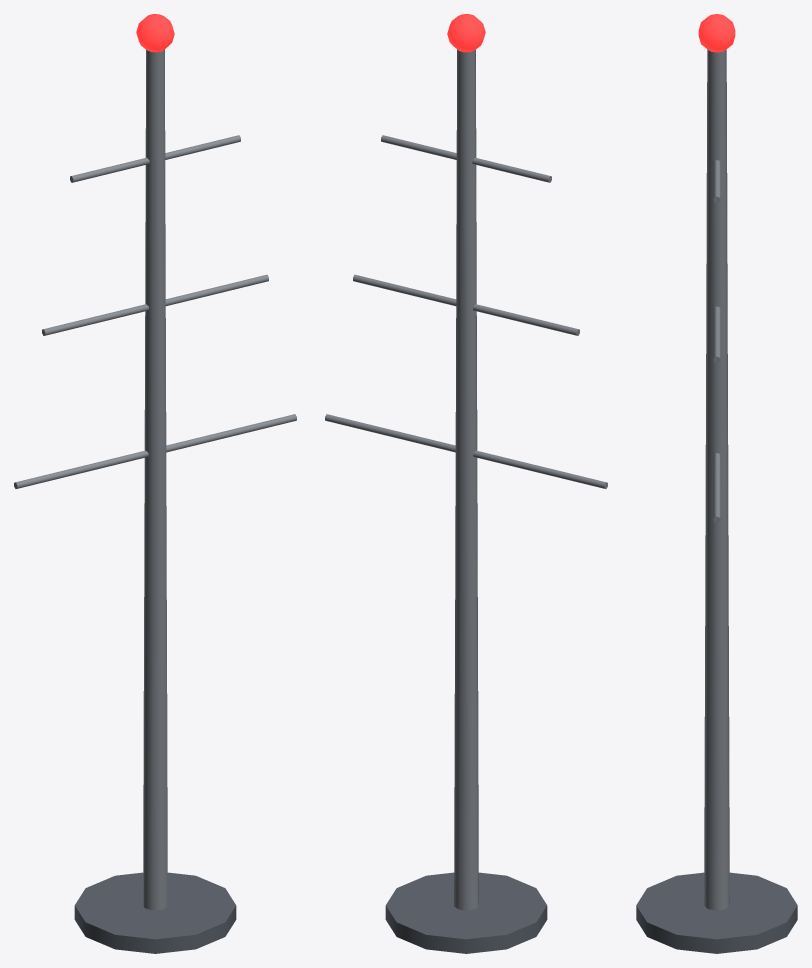
Rendered from antenna.glb.
3 views of the same model, side by side, from view 1: azimuth 30°, elevation 25°; view 2: azimuth 150°, elevation 25°; view 3: azimuth 270°, elevation 25° (orthographic).
Visible parts, largest first — view 1: main, beacon; view 2: main, beacon; view 3: main, beacon.
Part boxes in pixels (x1,y1,x2,y2): main: (14,49,296,953); beacon: (136,14,174,52); main: (325,49,607,953); beacon: (447,14,485,52); main: (636,49,797,953); beacon: (698,14,735,52).
Size of the model in its own units: 1 by 3.09 by 0.5.
